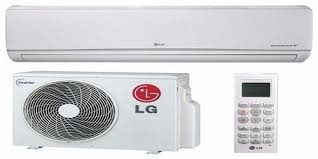ac: (2, 2, 316, 67)
